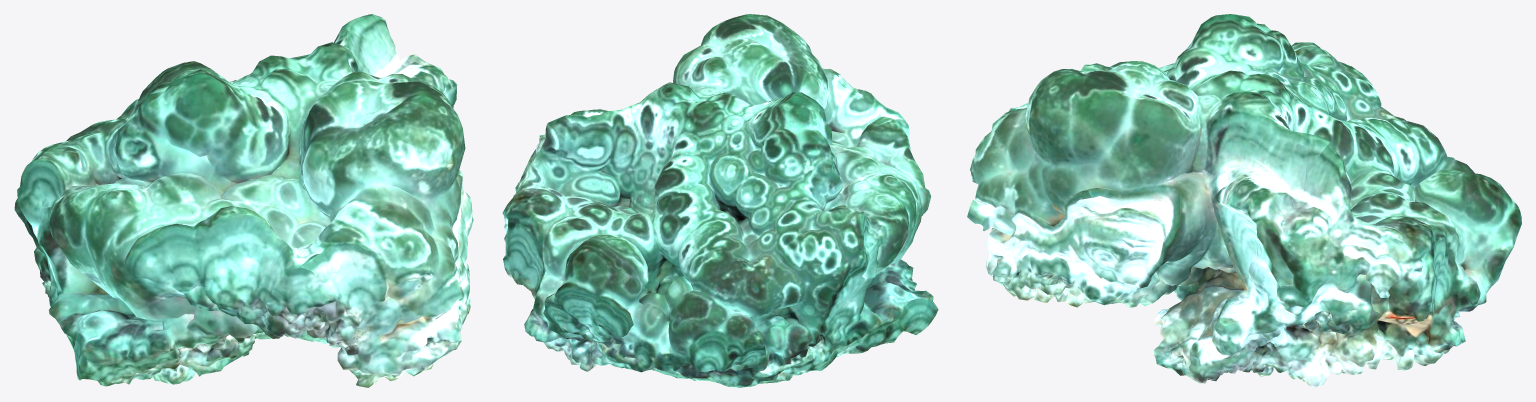
The model's file is malachit.glb.
The picture shows the model from 3 angles, left to right: view 1: azimuth 30°, elevation 25°; view 2: azimuth 150°, elevation 25°; view 3: azimuth 270°, elevation 25°; orthographic projection. The views are drawn at different scales.
Parts seen in each view (by area): view 1: malachit; view 2: malachit; view 3: malachit.
Part boxes in pixels (box(x1,y1,x2,y2)): malachit: box(14, 14, 473, 387); malachit: box(502, 14, 938, 387); malachit: box(967, 14, 1521, 387).
Bounding box in the file's own units: 0.7786 × 0.5135 × 0.904.
1 material, 1 textured.
